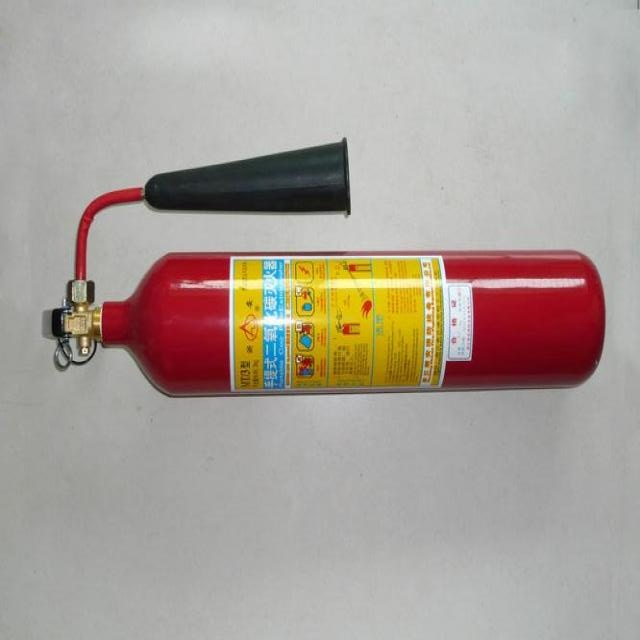fire extinguisher: (17, 128, 618, 401)
